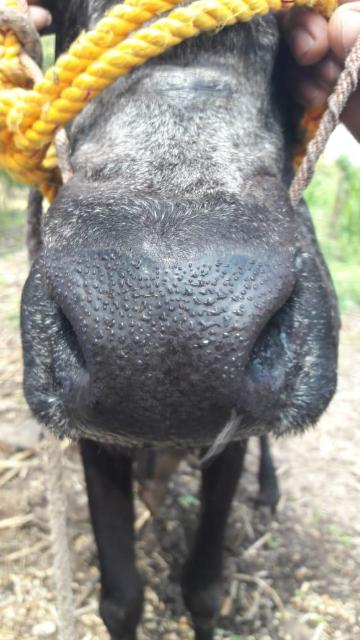Muzzle: (55, 245, 291, 442)
